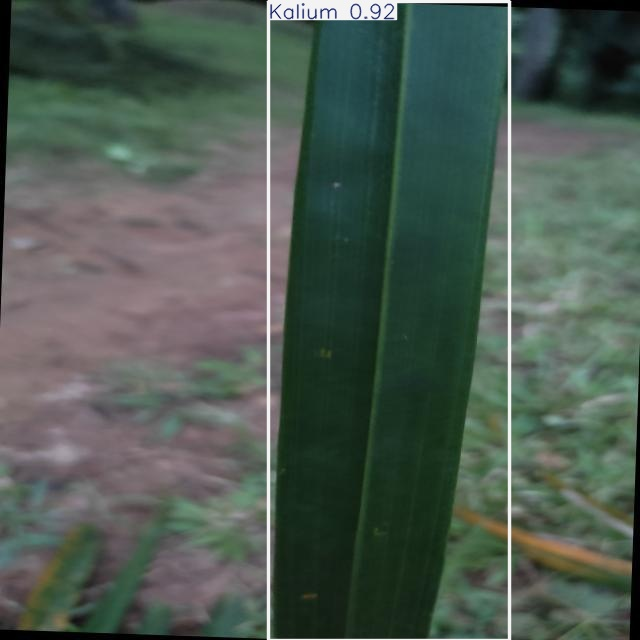Kalium: (269, 2, 509, 640)
